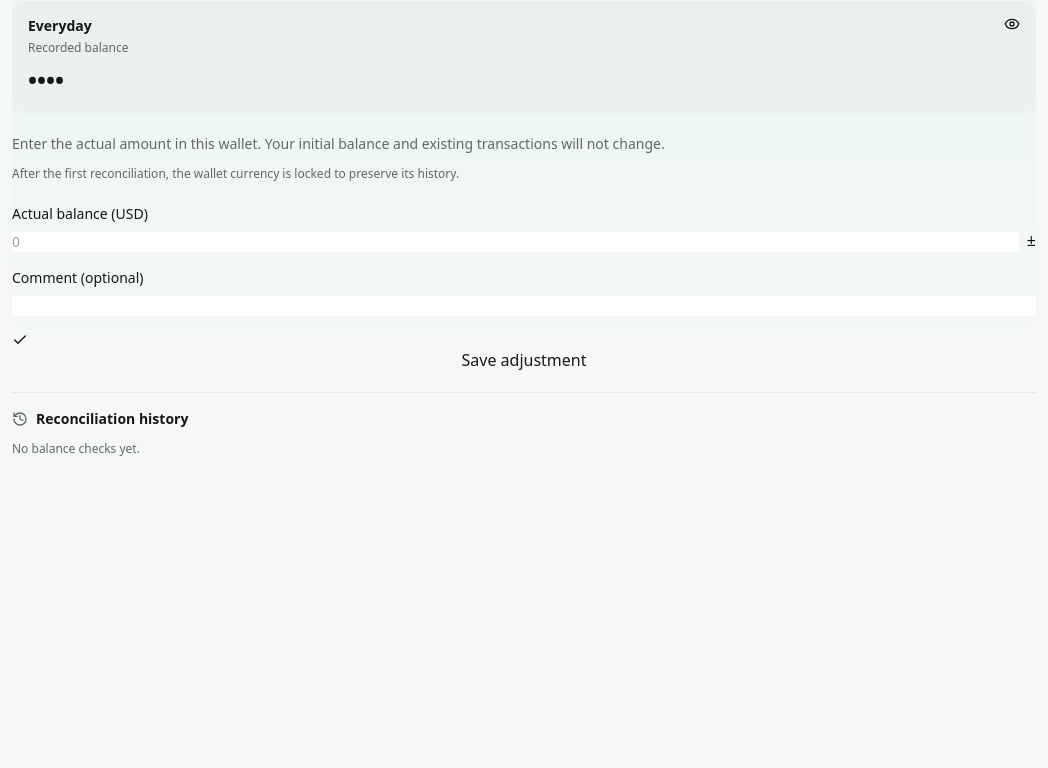
WalletReconciliationForm › keeps stale balance failures visible and respects hidden amounts until explicitly revealed
The width and height of the screenshot is (1048, 768).
Check: the text "$87.50" is not shown
Step 1. Click the button named "Show amounts" → click(1012, 24), box [1004,16,1020,32]
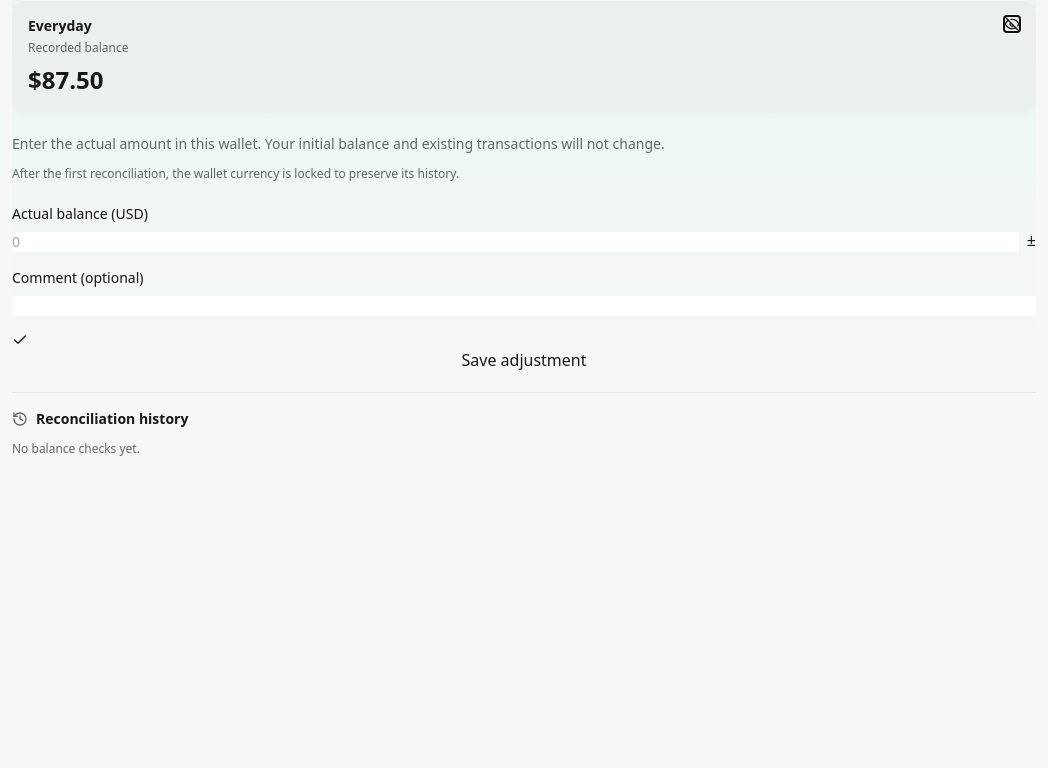
Check: the text "$87.50" is shown, box [28,63,104,96]
Step 2. Type "90" into the field labelled "Actual balance (USD)" → (515, 242), box [12,232,1019,252]
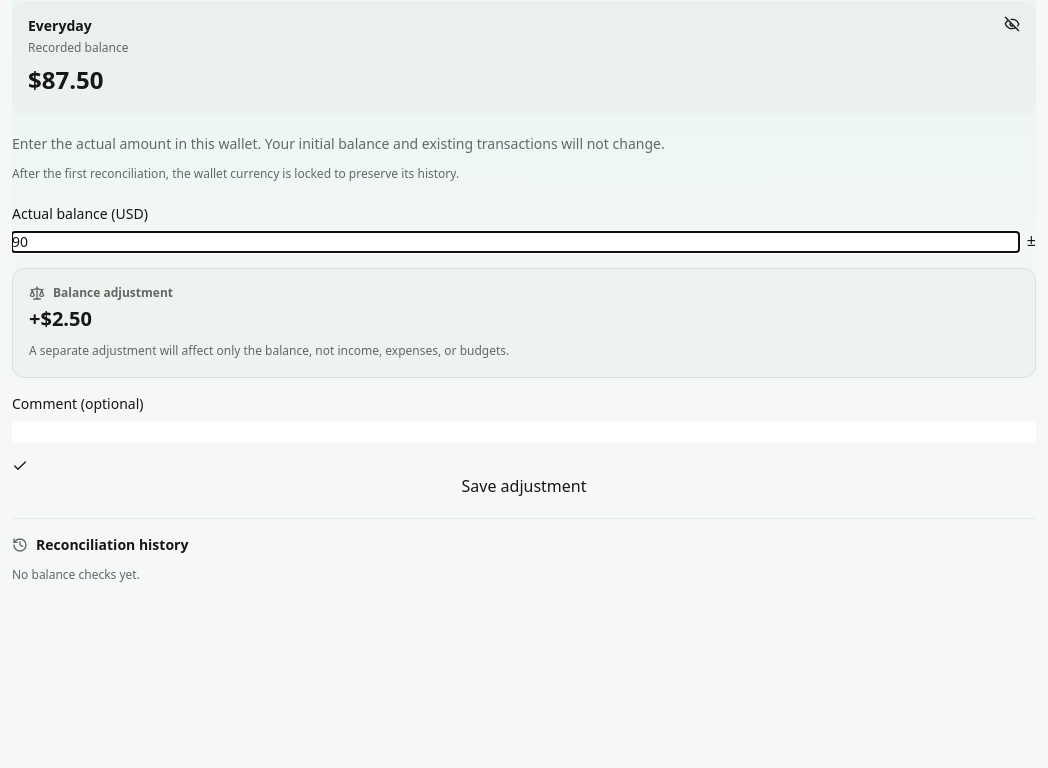
Step 3. Click the button "Save adjustment" → click(524, 478), box [12,458,1036,498]
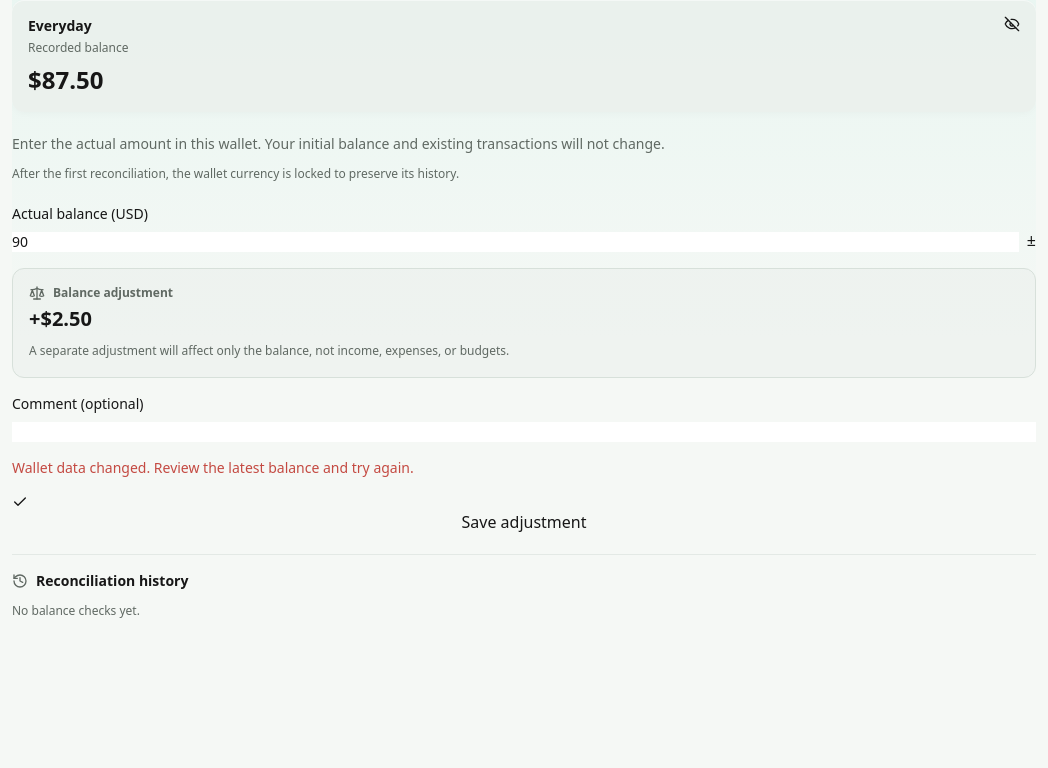
Check: the button "Save adjustment" is enabled, box [12,494,1036,534]
Check: the message reads "Wallet data changed. Review the latest balance and try again.", box [12,458,414,477]
